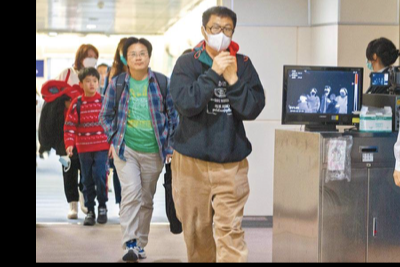with_mask: (206, 21, 235, 52), (81, 52, 98, 71)
without_mask: (125, 48, 152, 71), (83, 76, 100, 94)
